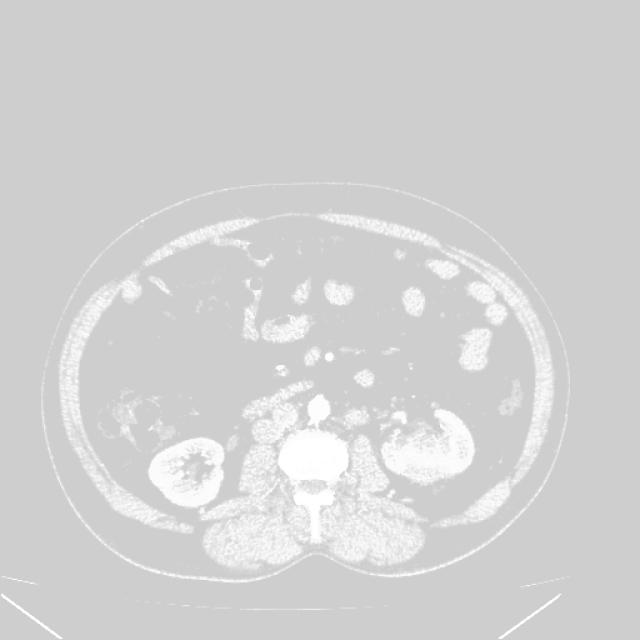TUMOR: (118, 332, 568, 515)
